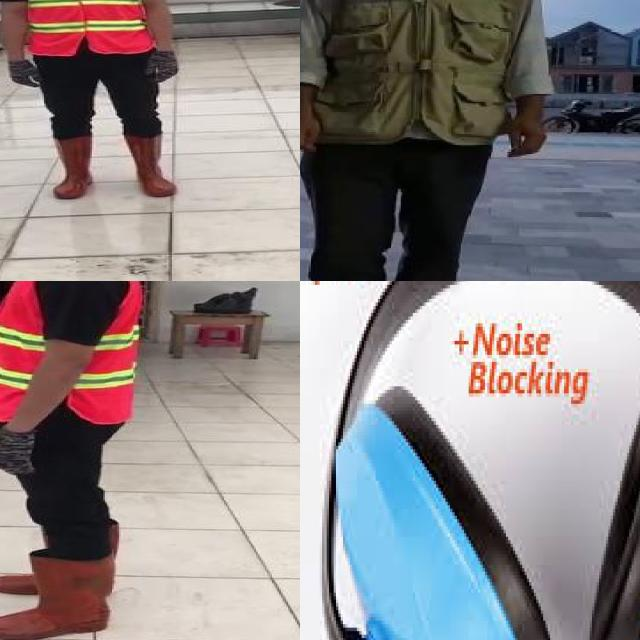Ear-protection: (329, 375, 554, 640), (582, 323, 640, 640)
boots: (0, 550, 113, 639), (122, 135, 179, 199), (47, 136, 101, 198)
hand_glove: (0, 426, 35, 478), (145, 52, 181, 83), (7, 61, 44, 89)
hand_noglove: (496, 101, 555, 167), (300, 100, 326, 155)
person: (300, 0, 556, 281), (0, 281, 149, 640), (0, 0, 198, 201)
vest: (300, 0, 553, 151), (63, 281, 140, 428), (0, 281, 64, 421), (10, 0, 150, 56)
